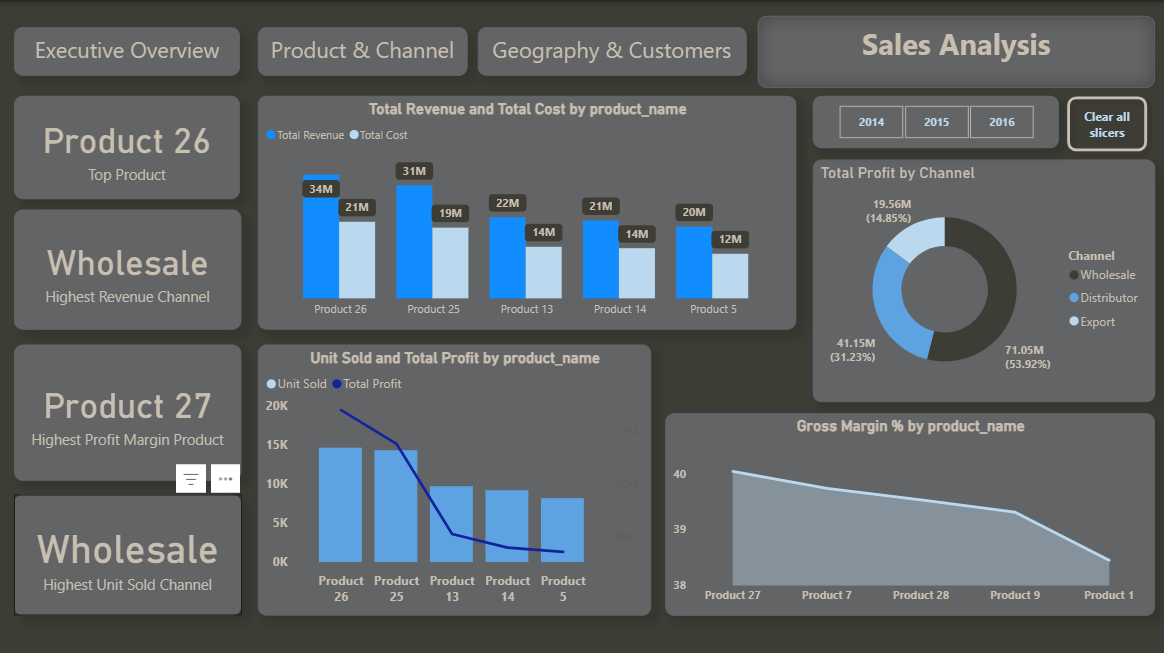

The dashboard page shown, as its layout file describes it:
{"tool":"powerbi","page":{"name":"Product & Channel","canvas":[1280,720],"ordinal":1},"visuals":[{"type":"actionButton","box":[7.8,23.1,257,56.2],"z":0,"group":"g1"},{"type":"card","fields":{"Values":["_Measure.Top Product"]},"box":[16.5,102.9,248.4,113.9],"z":0},{"type":"actionButton","box":[525.6,27.4,295,53.5],"z":1000,"group":"g1"},{"type":"card","fields":{"Values":["_Measure.Highest Revenue Channel"]},"box":[16.5,227.8,249.7,131.7],"z":1000},{"type":"actionButton","box":[284.1,27.4,230.5,53.5],"z":2000,"group":"g1"},{"type":"card","fields":{"Values":["_Measure.Product With Highest Profit Margin"]},"box":[16.5,376,249.7,149.6],"z":2000},{"type":"card","fields":{"Values":["_Measure.Highest Unit Sold Channel"]},"box":[16.5,540.7,249.7,133.1],"z":3000},{"type":"clusteredColumnChart","fields":{"Category":["final.product_name"],"Y":["_Measure.Total Revenue","_Measure.Total Cost"]},"box":[284,102.9,591.4,256.6],"z":4000},{"type":"donutChart","fields":{"Category":["final.channel"],"Y":["_Measure.Total Profit"]},"box":[893.3,172.9,376,266.2],"z":5000},{"type":"lineChart","fields":{"Y":["_Measure.Gross Margin %"],"Category":["final.product_name"]},"box":[731.4,451.5,537.9,222.3],"z":6000},{"type":"lineStackedColumnComboChart","fields":{"Category":["final.product_name"],"Y":["_Measure.Unit Sold"],"Y2":["_Measure.Total Profit"]},"box":[284,376,432.2,297.8],"z":7000},{"type":"textbox","box":[16.5,27.4,248.4,53.5],"z":8000},{"type":"textbox","box":[284,27.4,230.5,53.5],"z":9000},{"type":"textbox","box":[525.6,27.4,295,53.5],"z":10000},{"type":"textbox","box":[832.9,15.1,436.4,79.6],"z":11000},{"type":"group","id":"g1","title":"Nav Button","box":[7.8,23.1,812.8,57.8],"z":12000},{"type":"slicer","fields":{"Values":["final.order_date.Variation.Date Hierarchy.Year"]},"box":[893.3,102.9,270.3,57.6],"z":13000},{"type":"actionButton","box":[1163.6,94.7,105.7,78.2],"z":14000}]}

Visuals, with their boxes in screenshot pixels (x1, y1, x2, y2), scaled from the page's 1280x720 canvas onto the 1164x653 screenshot:
actionButton: BBox(7, 21, 241, 72)
card - _Measure.Top Product: BBox(15, 93, 241, 197)
actionButton: BBox(478, 25, 746, 73)
card - _Measure.Highest Revenue Channel: BBox(15, 207, 242, 326)
actionButton: BBox(258, 25, 468, 73)
card - _Measure.Product With Highest Profit Margin: BBox(15, 341, 242, 477)
card - _Measure.Highest Unit Sold Channel: BBox(15, 490, 242, 611)
clusteredColumnChart - final.product_name x _Measure.Total Revenue: BBox(258, 93, 796, 326)
donutChart - final.channel x _Measure.Total Profit: BBox(812, 157, 1154, 398)
lineChart - _Measure.Gross Margin % x final.product_name: BBox(665, 409, 1154, 611)
lineStackedColumnComboChart - final.product_name x _Measure.Unit Sold: BBox(258, 341, 651, 611)
textbox: BBox(15, 25, 241, 73)
textbox: BBox(258, 25, 468, 73)
textbox: BBox(478, 25, 746, 73)
textbox: BBox(757, 14, 1154, 86)
"Nav Button" group: BBox(7, 21, 746, 73)
slicer - final.order_date.Variation.Date Hierarchy.Year: BBox(812, 93, 1058, 146)
actionButton: BBox(1058, 86, 1154, 157)
